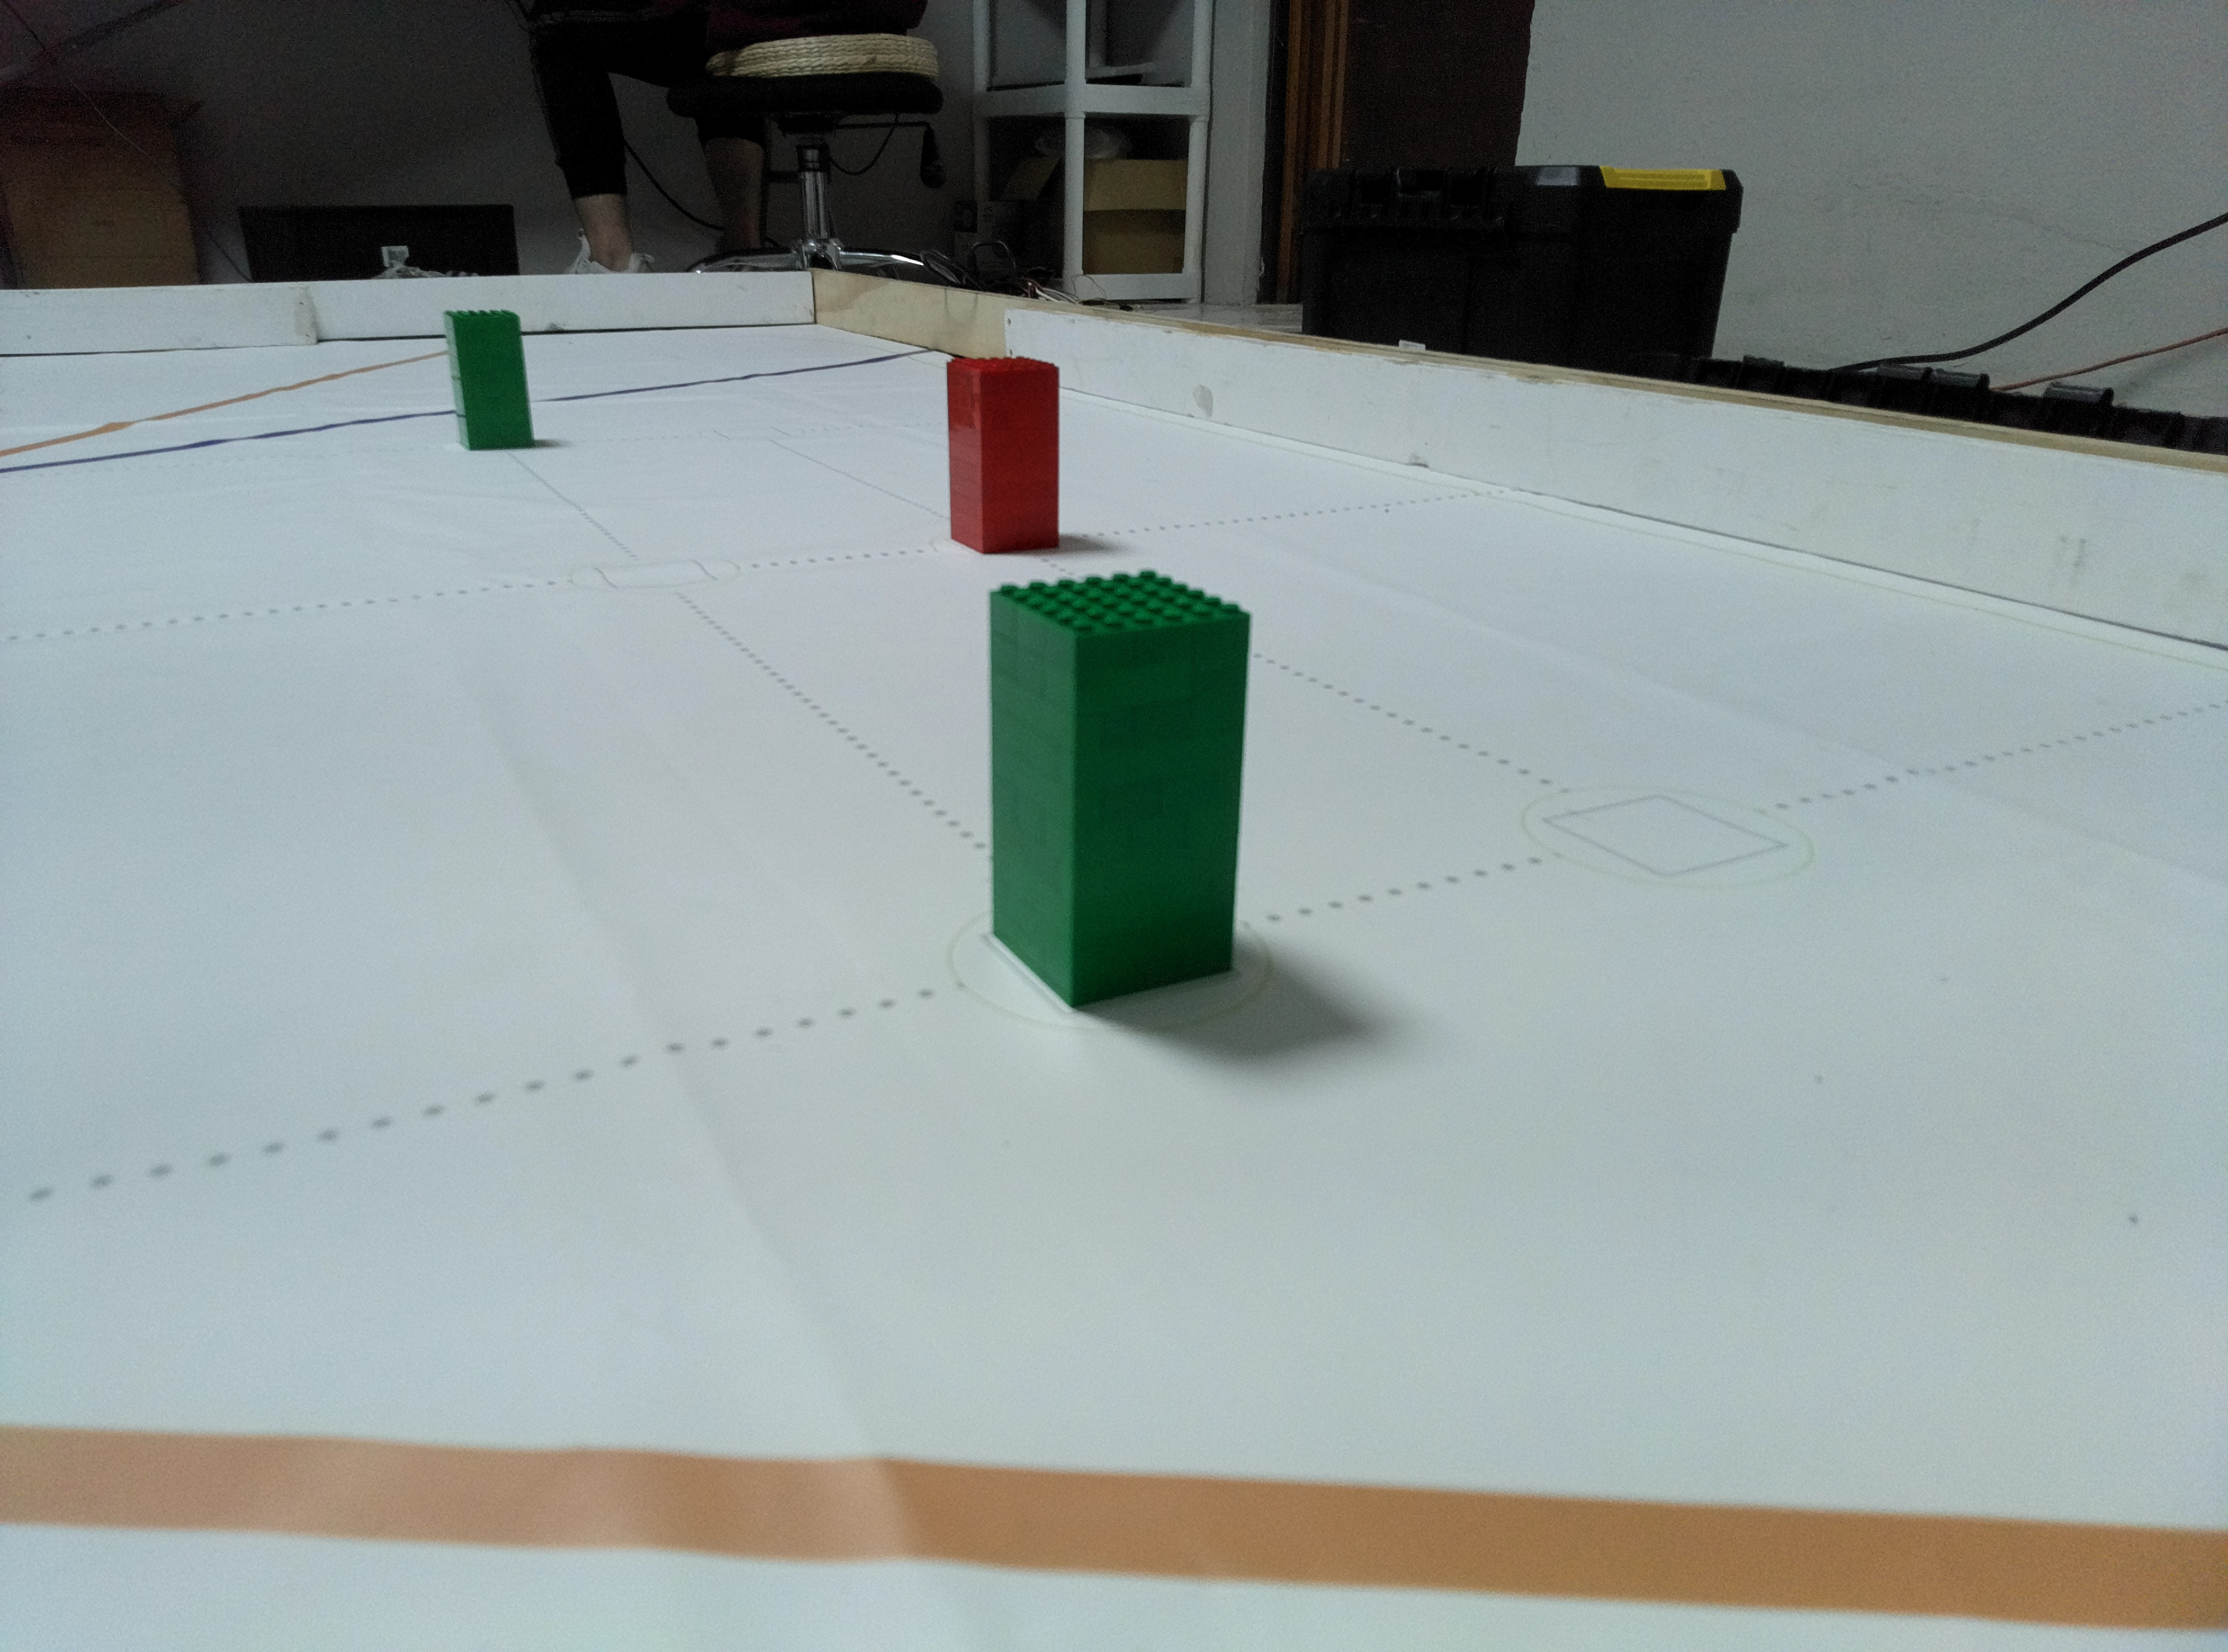greenbox: (984, 567, 1251, 1012), (449, 309, 529, 453)
redbox: (937, 349, 1064, 555)
